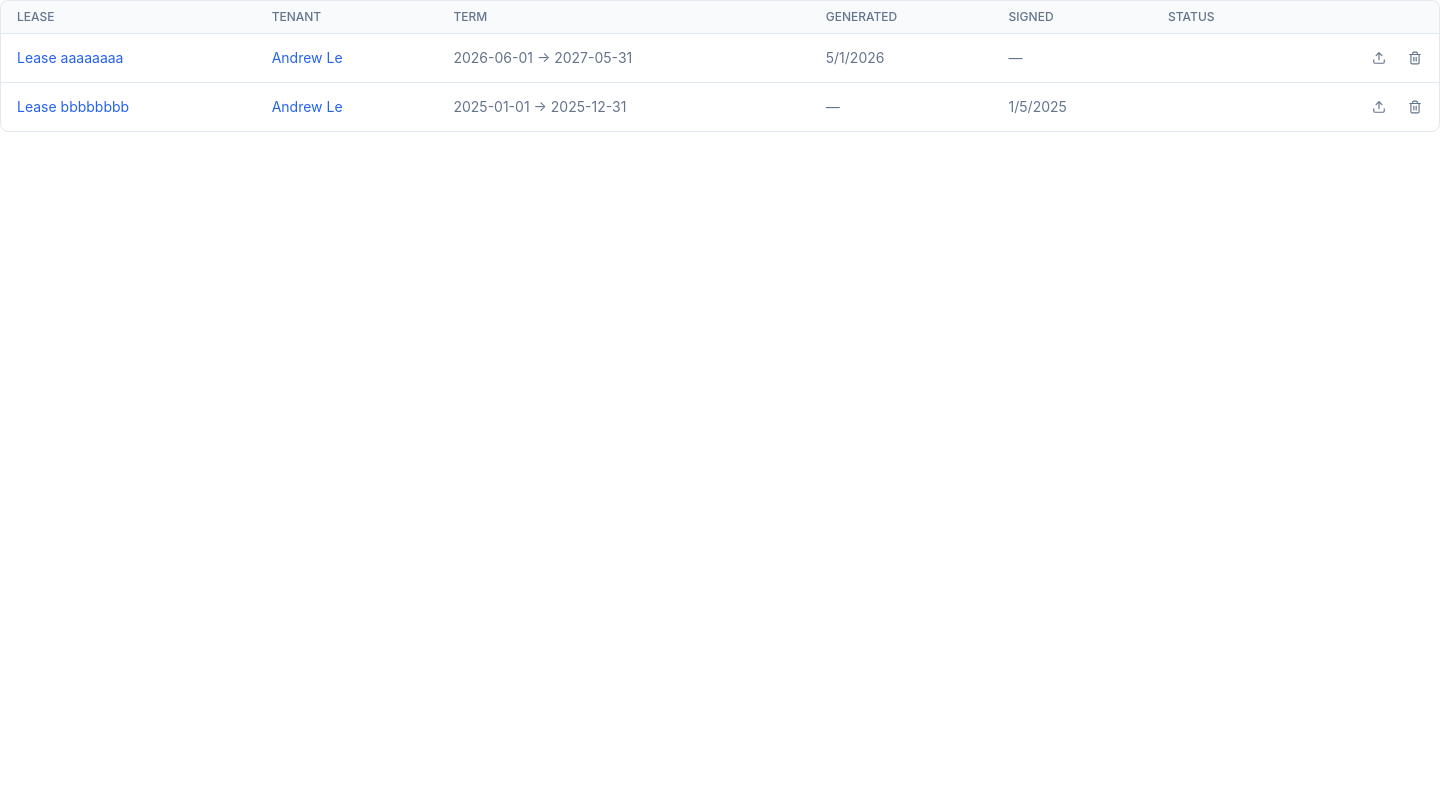
Scenario: LeasesListBody — upload affordance › opens the quick-upload modal when upload button is clicked
The width and height of the screenshot is (1440, 810).
Step 1. Click the button named "Upload documents for lease aaaaaaaa" → [1379, 58], box [1363,42,1395,74]
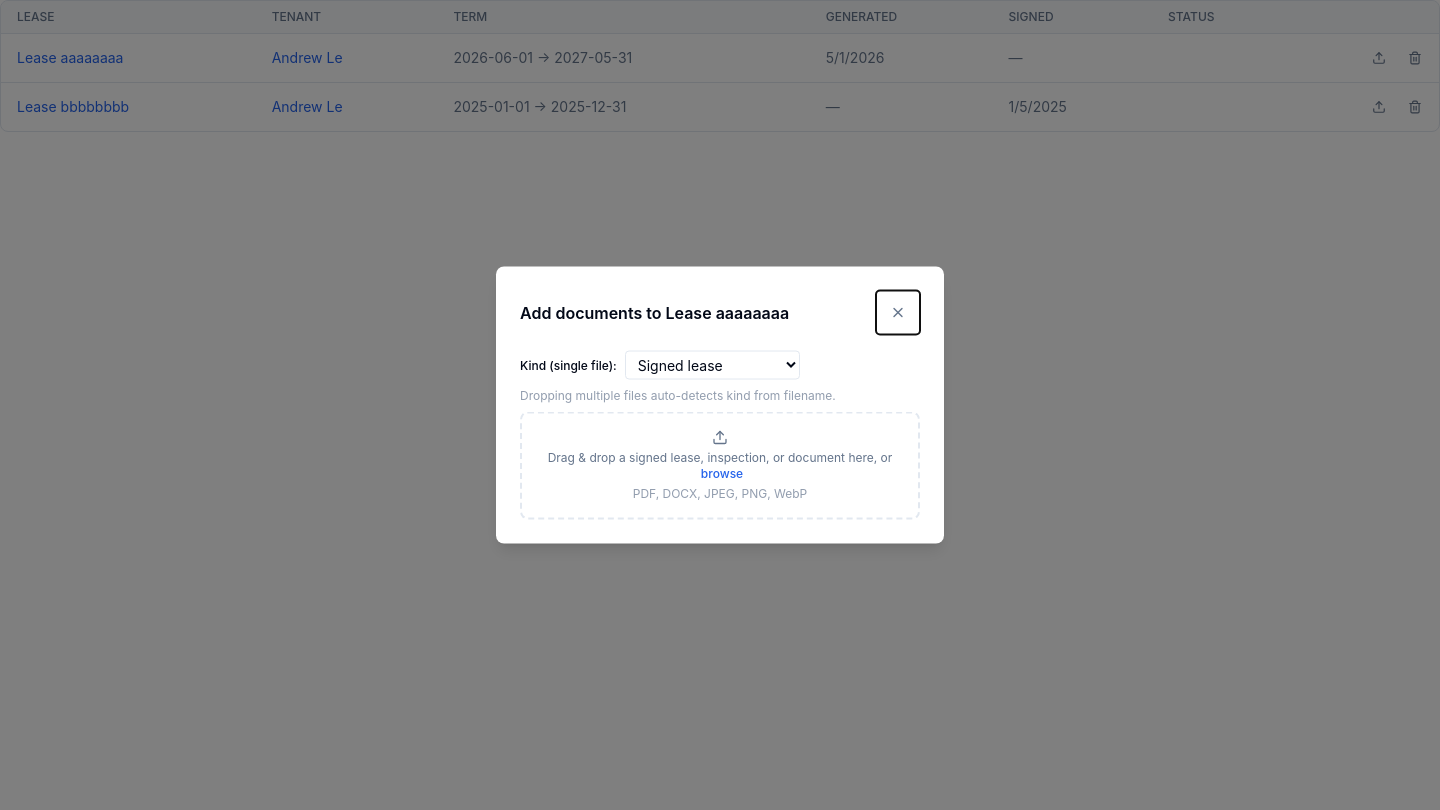
expect the dialog with test id "lease-quick-upload-modal" is shown: met, box [496,266,944,544]
expect the heading "Add documents to Lease aaaaaaaa" is shown: met, box [520,300,789,324]
